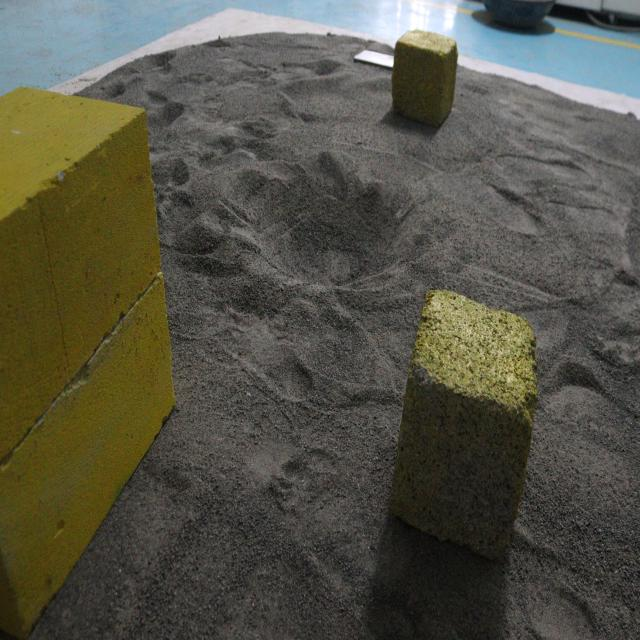box: (0, 82, 181, 640), (397, 279, 537, 556), (391, 29, 458, 128)
crater: (196, 141, 416, 317)
